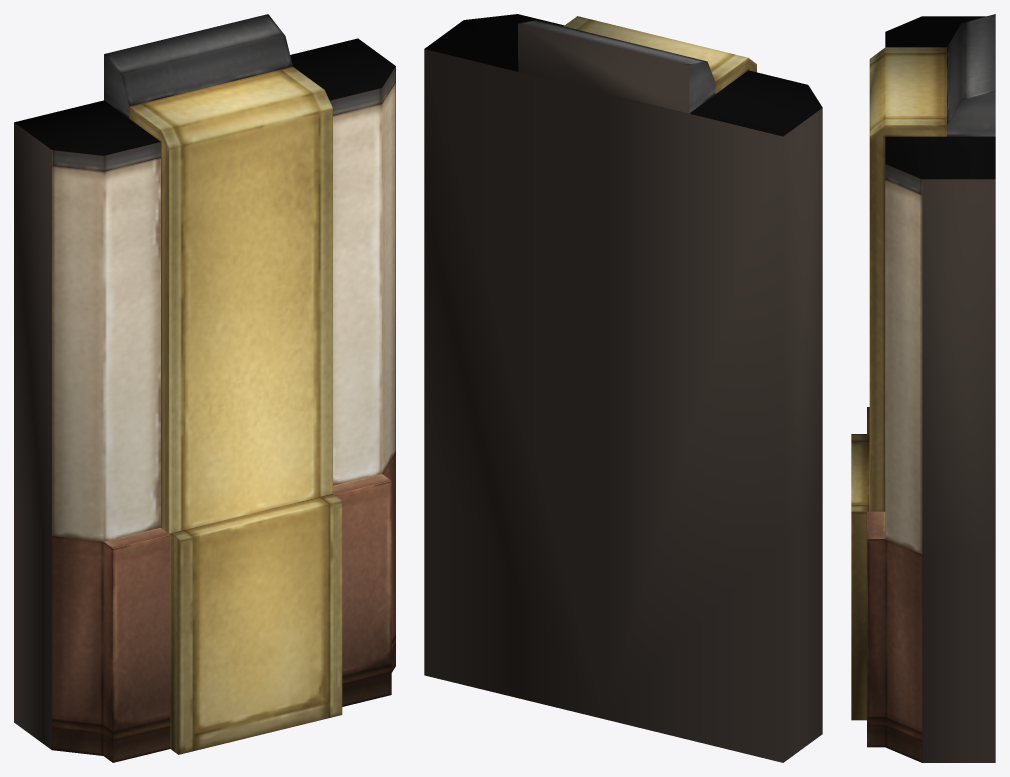
Rendered from a_SWIwall02_11.glb.
The picture shows the model from 3 angles, left to right: view 1: azimuth 30°, elevation 25°; view 2: azimuth 150°, elevation 25°; view 3: azimuth 270°, elevation 25°; orthographic projection. The views are drawn at different scales.
Parts seen in each view (by area): view 1: a_SWIwall02_11; view 2: a_SWIwall02_11; view 3: a_SWIwall02_11.
Boxes of the visible parts, <box> form: a_SWIwall02_11: <box>14,14,395,762</box>; a_SWIwall02_11: <box>424,14,822,762</box>; a_SWIwall02_11: <box>851,14,995,762</box>.
Bounding box in the file's own units: 2.1 × 3.77 × 0.7859.
Materials: 2 (2 with a texture image).
